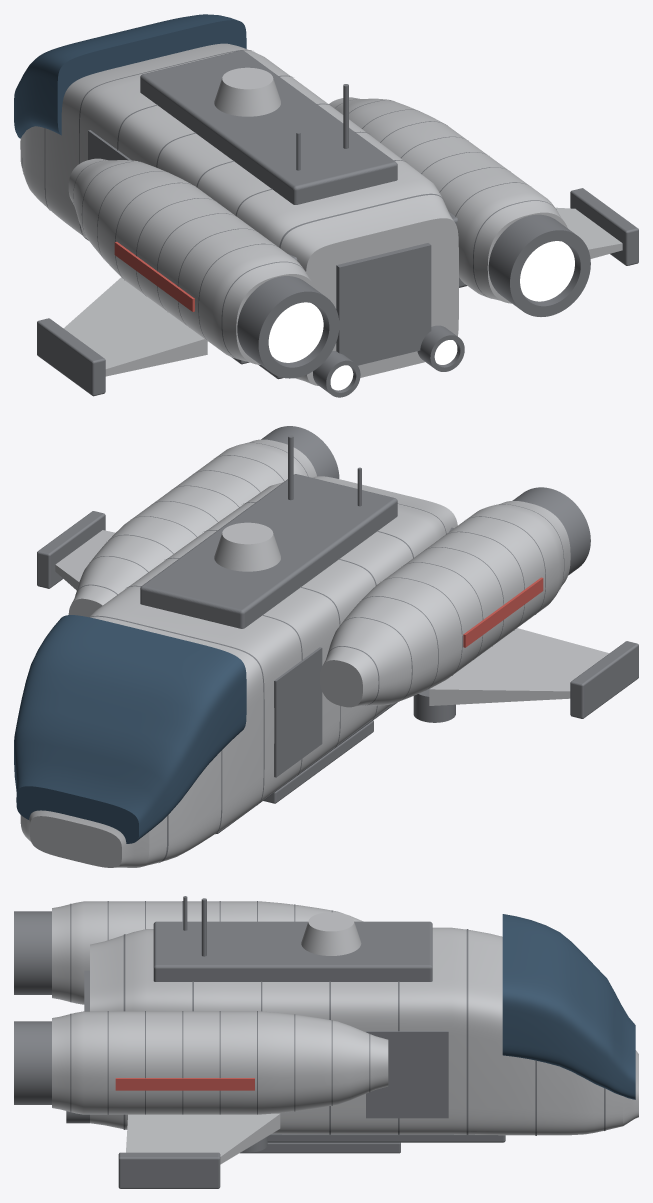
The model's file is pilotfish.glb.
3 views of the same model, one above another, from view 1: azimuth 30°, elevation 25°; view 2: azimuth 150°, elevation 25°; view 3: azimuth 270°, elevation 25° (orthographic). The views are drawn at different scales.
Visible parts, largest first — view 1: pilotfish_hull; view 2: pilotfish_hull; view 3: pilotfish_hull.
Boxes of the visible parts, x1,y1,x2,y2 form: pilotfish_hull: (14,14,638,397); pilotfish_hull: (14,426,638,867); pilotfish_hull: (14,896,638,1188).
Bounding box in the file's own units: 8.92 × 4.13 × 9.85.
